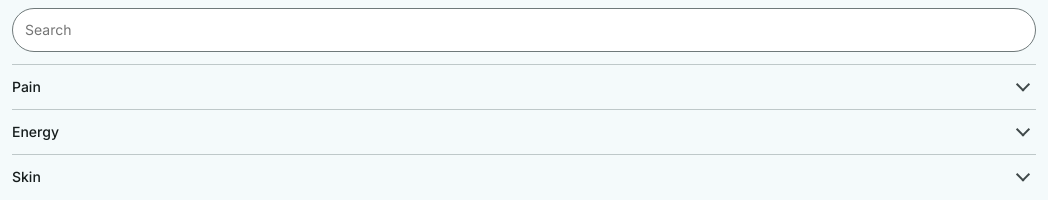
Test case: DaySymptomPicker › search › shows the matching chips under their category and drops the rest
The width and height of the screenshot is (1048, 200).
Type "ache" into the search field named "Search tags". click: (524, 30)
box: [12,8,1036,52]
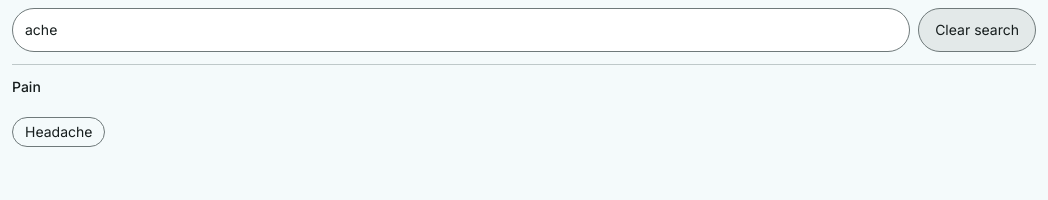
expect the button "Headache" is shown: met, box [12,117,105,147]
expect the button "Energy" is gone: met
expect the button "Skin" is gone: met
